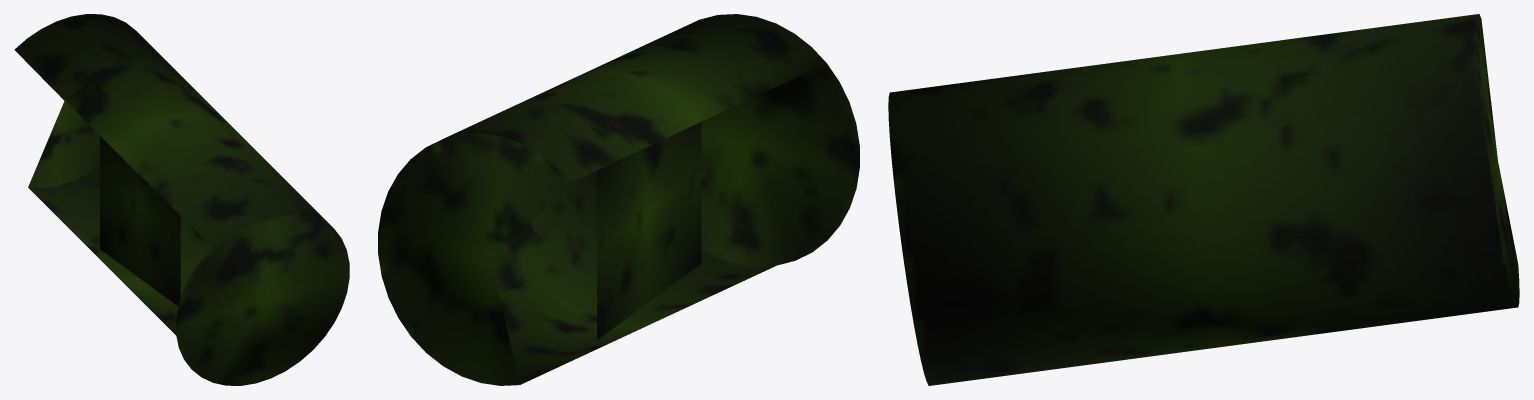
The model's file is BlurbBomberDestructionPart2.fbx.
The picture shows the model from 3 angles, left to right: view 1: azimuth 30°, elevation 25°; view 2: azimuth 150°, elevation 25°; view 3: azimuth 270°, elevation 25°; orthographic projection. The views are drawn at different scales.
Visible parts, largest first — view 1: BlurbBomber; view 2: BlurbBomber; view 3: BlurbBomber.
Boxes of the visible parts, x1=… form: BlurbBomber: x1=14, y1=14, x2=349, y2=385; BlurbBomber: x1=378, y1=14, x2=859, y2=385; BlurbBomber: x1=888, y1=14, x2=1519, y2=385.
Bounding box in the file's own units: 249 × 318 × 528.
Materials: 1 (1 with a texture image).
